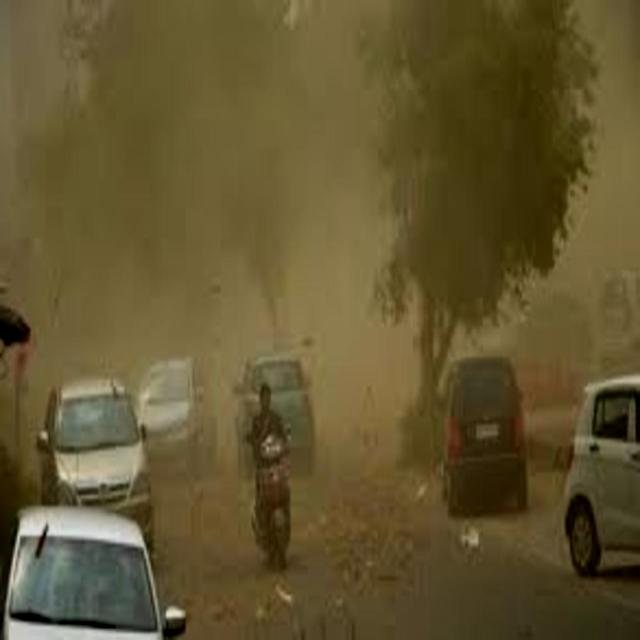Car: (1, 501, 182, 640), (34, 368, 155, 532), (560, 378, 640, 570), (138, 354, 218, 489)
Cycle: (251, 382, 296, 572)
Van: (442, 352, 532, 514)
